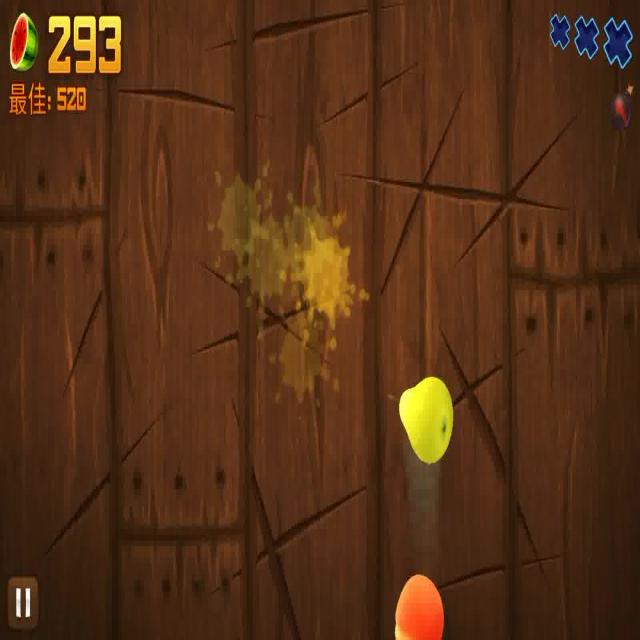fruit: (390, 376, 458, 462), (387, 569, 448, 640)
